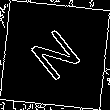N_SE: (23, 23, 87, 87)
